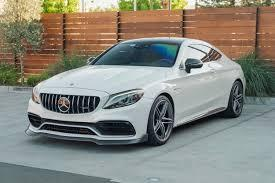mercedes: (54, 94, 75, 114)
